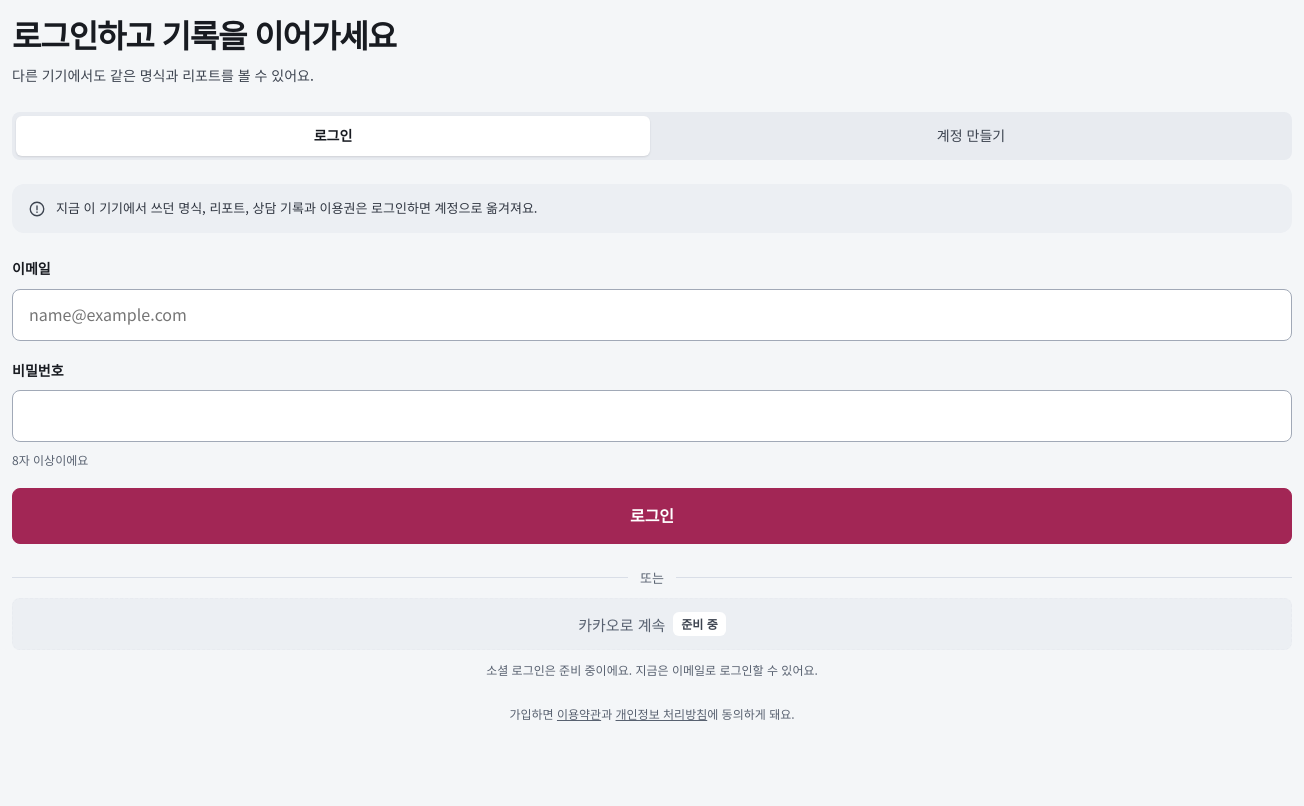
Test case: LiveLoginScreen anonymous migration messaging › tells the user the anonymous data was already migrated on 409/ALREADY_MIGRATED
Type "user@example.com" into the field labelled "이메일" at [652, 314], box [12, 288, 1292, 340]
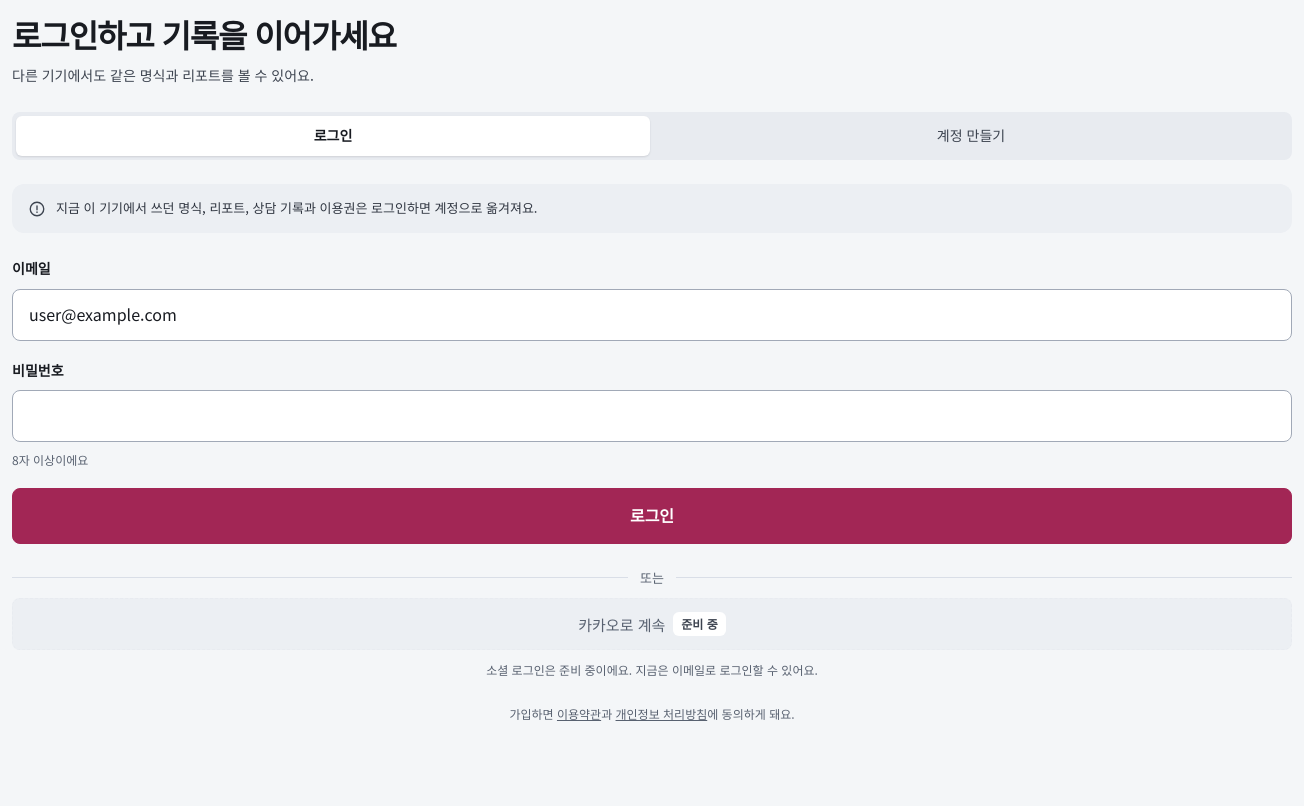
Type "password123" into the password field labelled "비밀번호" at [652, 416], box [12, 390, 1292, 442]
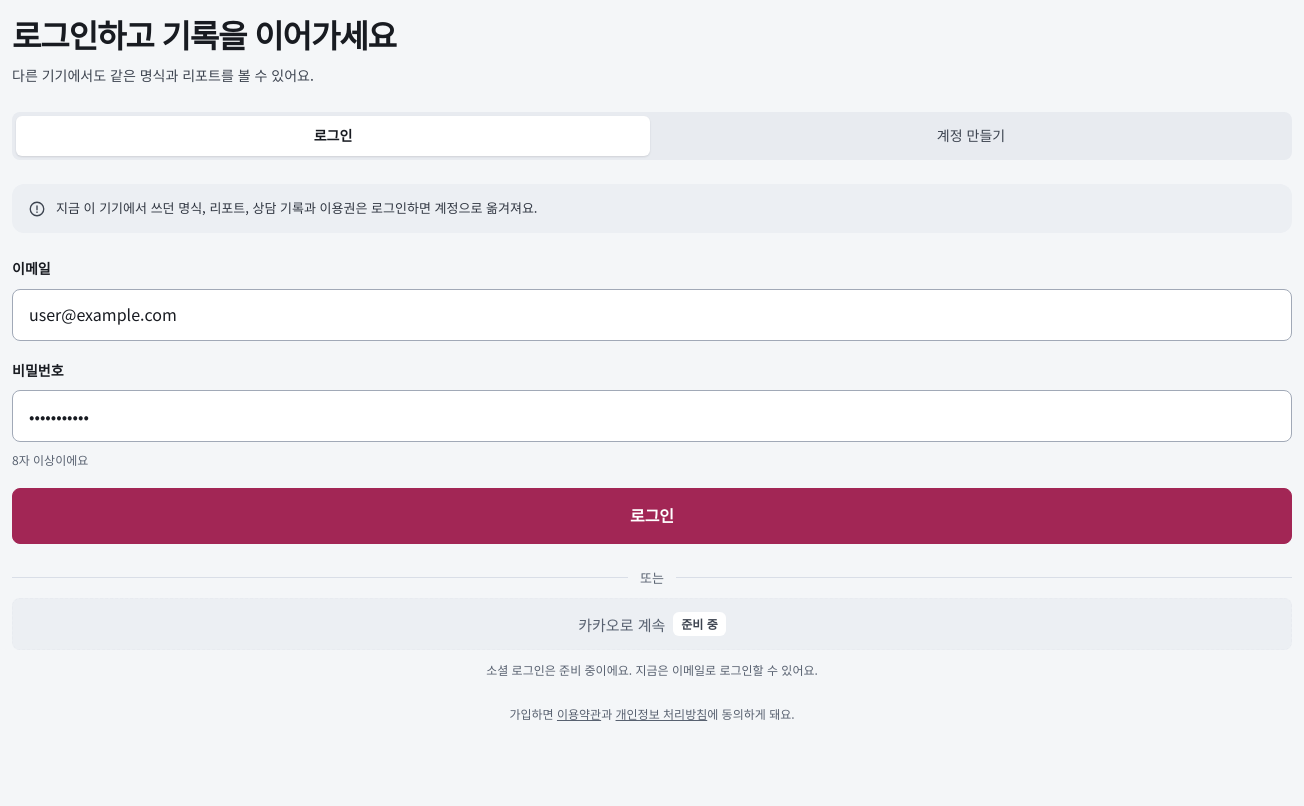
Click the button "로그인" at [652, 516], box [12, 488, 1292, 544]
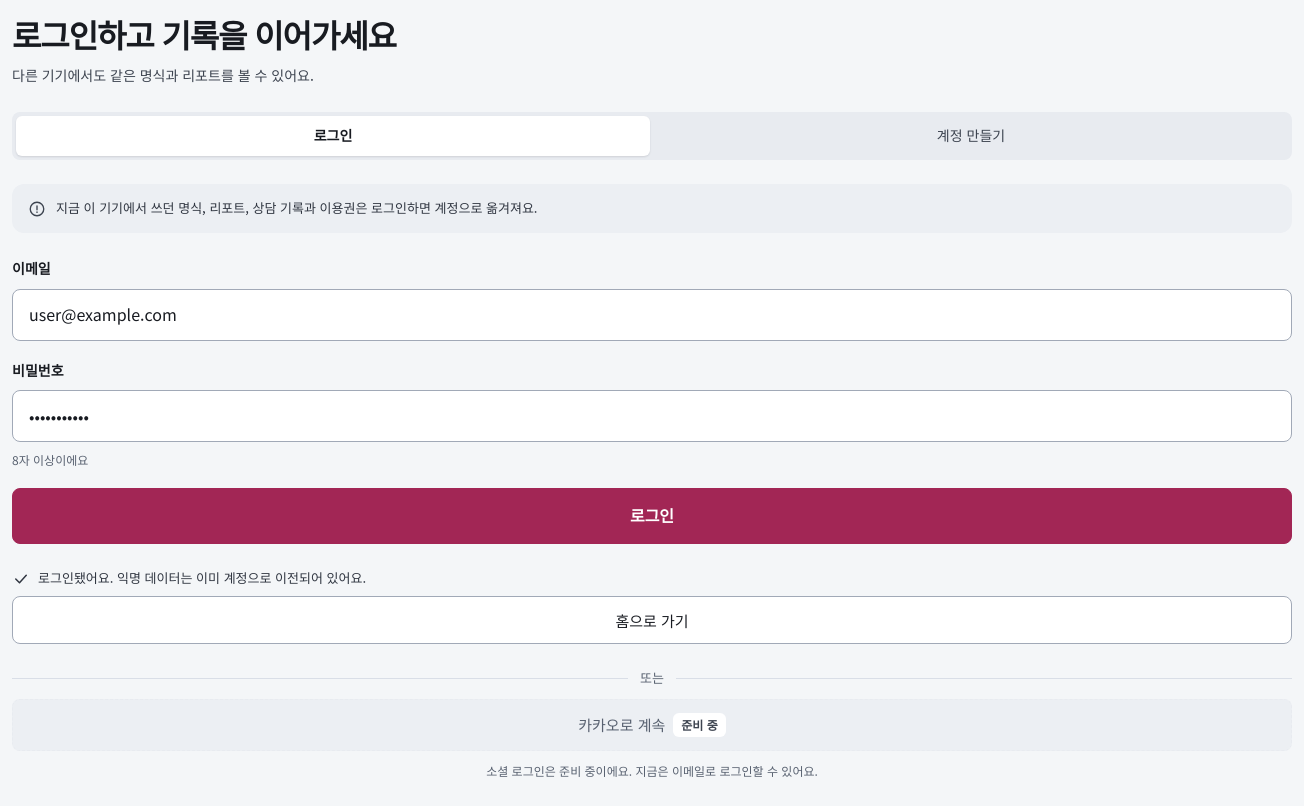
Result: the message shows "로그인됐어요" at [38, 568, 366, 586]
Result: the message shows "익명 데이터는 이미 계정으로 이전되어 있어요." at [38, 568, 366, 586]
